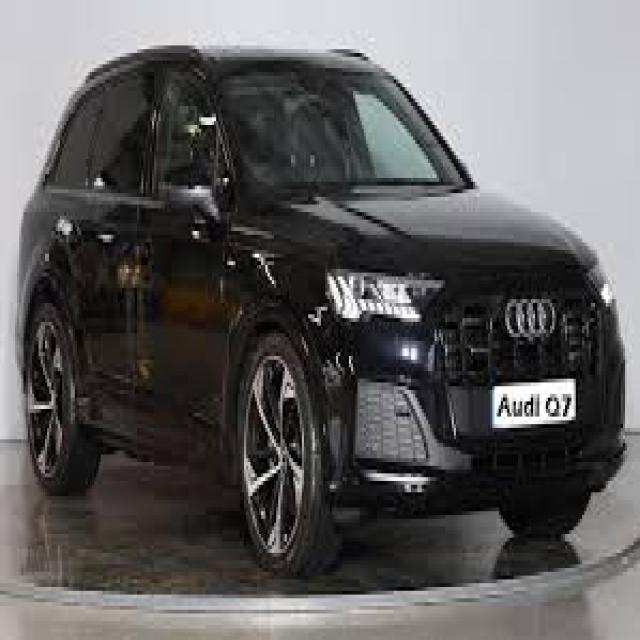SUV: (14, 32, 626, 584)
